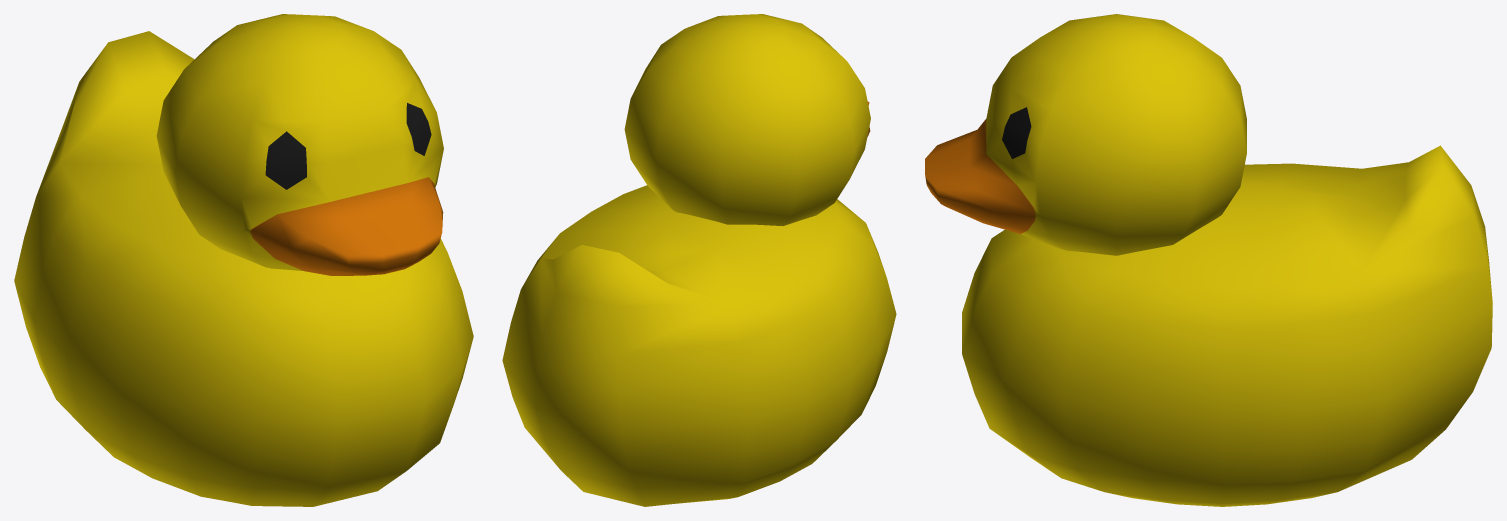
The model's file is rubber duck.fbx.
3 views of the same model, side by side, from view 1: azimuth 30°, elevation 25°; view 2: azimuth 150°, elevation 25°; view 3: azimuth 270°, elevation 25° (orthographic). The views are drawn at different scales.
Parts seen in each view (by area): view 1: pSphere1, pSphere2; view 2: pSphere1, pSphere2; view 3: pSphere1, pSphere2.
Part boxes in pixels (x1,y1,x2,y2): pSphere1: (14, 31, 473, 506); pSphere2: (156, 14, 443, 275); pSphere1: (502, 185, 896, 506); pSphere2: (624, 14, 870, 225); pSphere1: (962, 145, 1492, 506); pSphere2: (925, 14, 1246, 255).
Size of the model in its own units: 11.35 by 13.91 by 16.52.
